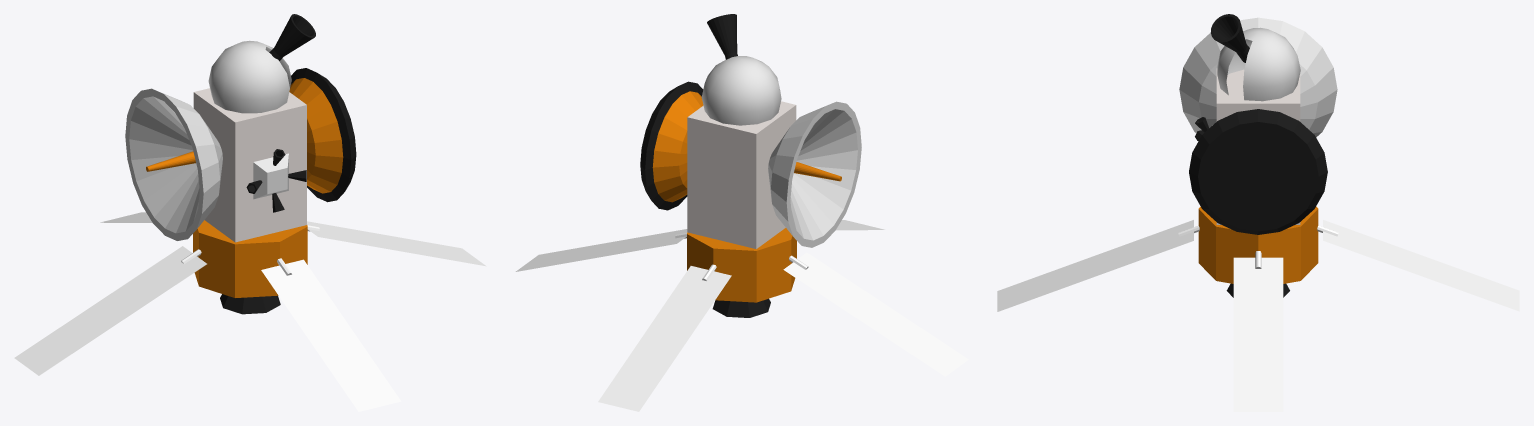
The model's file is satellite.glb.
3 renders of one model, left to right at view 1: azimuth 30°, elevation 25°; view 2: azimuth 150°, elevation 25°; view 3: azimuth 270°, elevation 25°, orthographic. The views are drawn at different scales.
Visible parts, largest first — view 1: Cylinder.001, Cylinder.005, Cube, Cylinder, Cylinder.003, Sphere.001, Cube.002, Cylinder.002, Cone; view 2: Cylinder.001, Cube, Cylinder.005, Cylinder, Cylinder.003, Sphere.001, Cylinder.002, Cone; view 3: Cylinder.001, Cylinder.003, Cylinder.005, Cylinder, Sphere.001, Cube, Cylinder.002.
Part boxes in pixels (box(x1,y1,x2,y2)): Cylinder.001: box(14, 212, 486, 411); Cylinder.005: box(125, 88, 222, 240); Cube: box(193, 88, 306, 242); Cylinder: box(193, 220, 307, 297); Cylinder.003: box(289, 68, 356, 202); Sphere.001: box(208, 40, 291, 113); Cube.002: box(246, 149, 306, 212); Cylinder.002: box(269, 14, 315, 60); Cone: box(220, 294, 280, 314); Cylinder.001: box(515, 220, 968, 411); Cube: box(687, 101, 796, 248); Cylinder.005: box(768, 101, 861, 247); Cylinder: box(687, 228, 796, 302); Cylinder.003: box(640, 81, 703, 210); Sphere.001: box(701, 56, 781, 125); Cylinder.002: box(707, 14, 737, 59); Cone: box(712, 298, 770, 317); Cylinder.001: box(997, 220, 1519, 411); Cylinder.003: box(1189, 109, 1327, 234); Cylinder.005: box(1179, 17, 1337, 137); Cylinder: box(1198, 206, 1318, 283); Sphere.001: box(1217, 27, 1300, 101); Cube: box(1216, 68, 1300, 224); Cylinder.002: box(1210, 14, 1249, 62).
Size of the model in its own units: 8.72 by 5.54 by 8.72.
